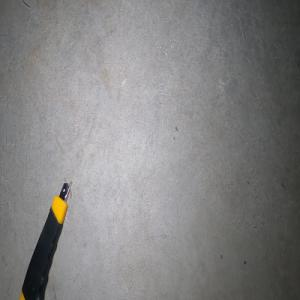Cutter: (19, 180, 71, 300)
